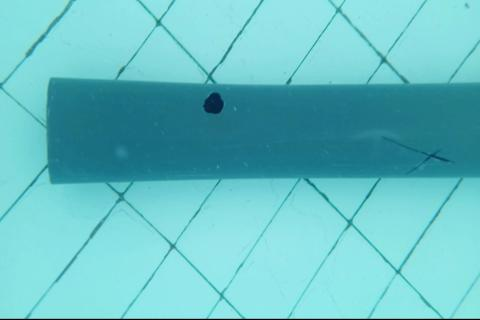kebocoran: (203, 89, 224, 117)
keretakan: (380, 133, 453, 174)
